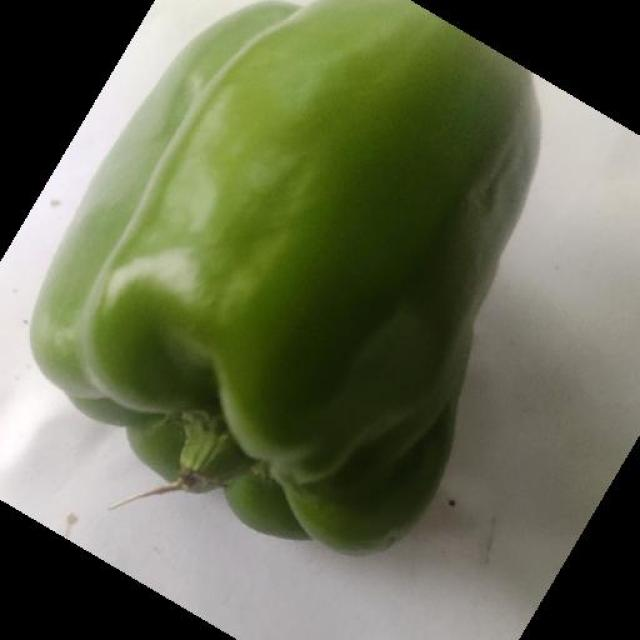Fresh_Capsicum: (102, 0, 442, 583)
